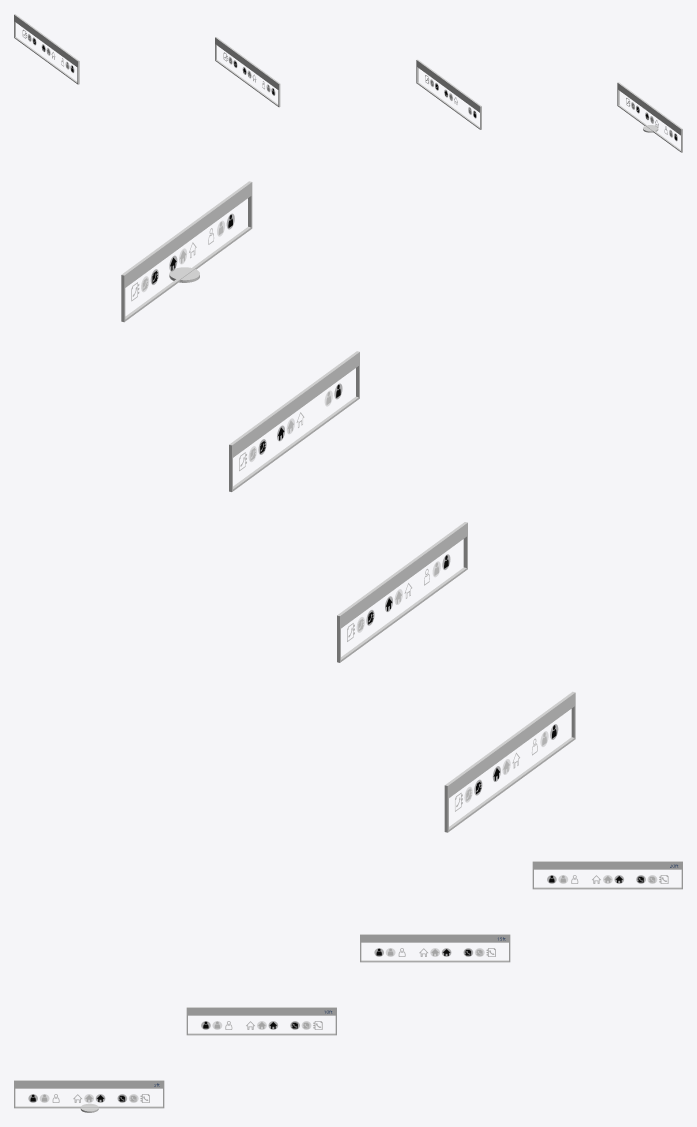
Rendered from icons-1.glb.
3 views of the same model, one above another, from view 1: azimuth 30°, elevation 25°; view 2: azimuth 150°, elevation 25°; view 3: azimuth 270°, elevation 25° (orthographic). The views are drawn at different scales.
Parts seen in each view (by area): view 1: Cylinder; view 2: Cylinder; view 3: Cylinder.
Part boxes in pixels (bbox=[...]): Cylinder: bbox=[14, 14, 682, 152]; Cylinder: bbox=[121, 181, 575, 832]; Cylinder: bbox=[14, 861, 682, 1112].
Bounding box in the file's own units: 15.33 × 0.9011 × 19.36.
12 materials, 9 textured.
